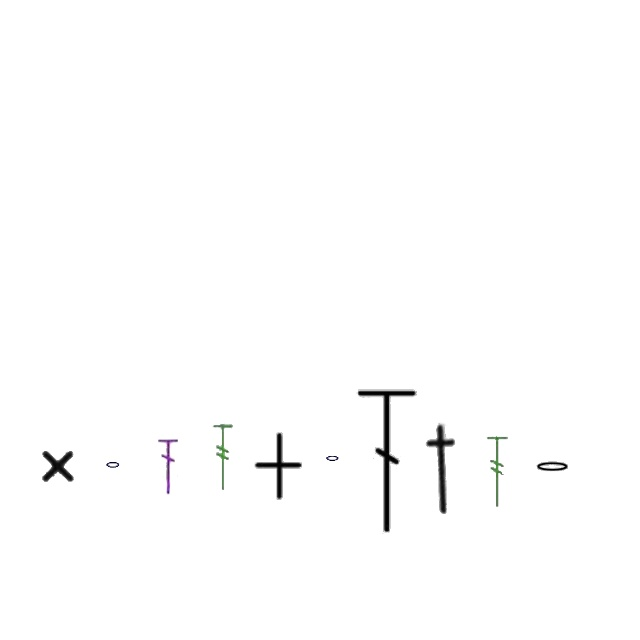chain: (356, 384, 420, 538), (158, 436, 178, 496)
double: (416, 422, 470, 516)
half_double: (484, 433, 512, 511), (212, 424, 234, 492)
slip_stitch: (252, 432, 304, 502), (39, 445, 77, 485)
treble: (534, 460, 572, 474), (105, 460, 121, 470), (326, 453, 340, 463)
